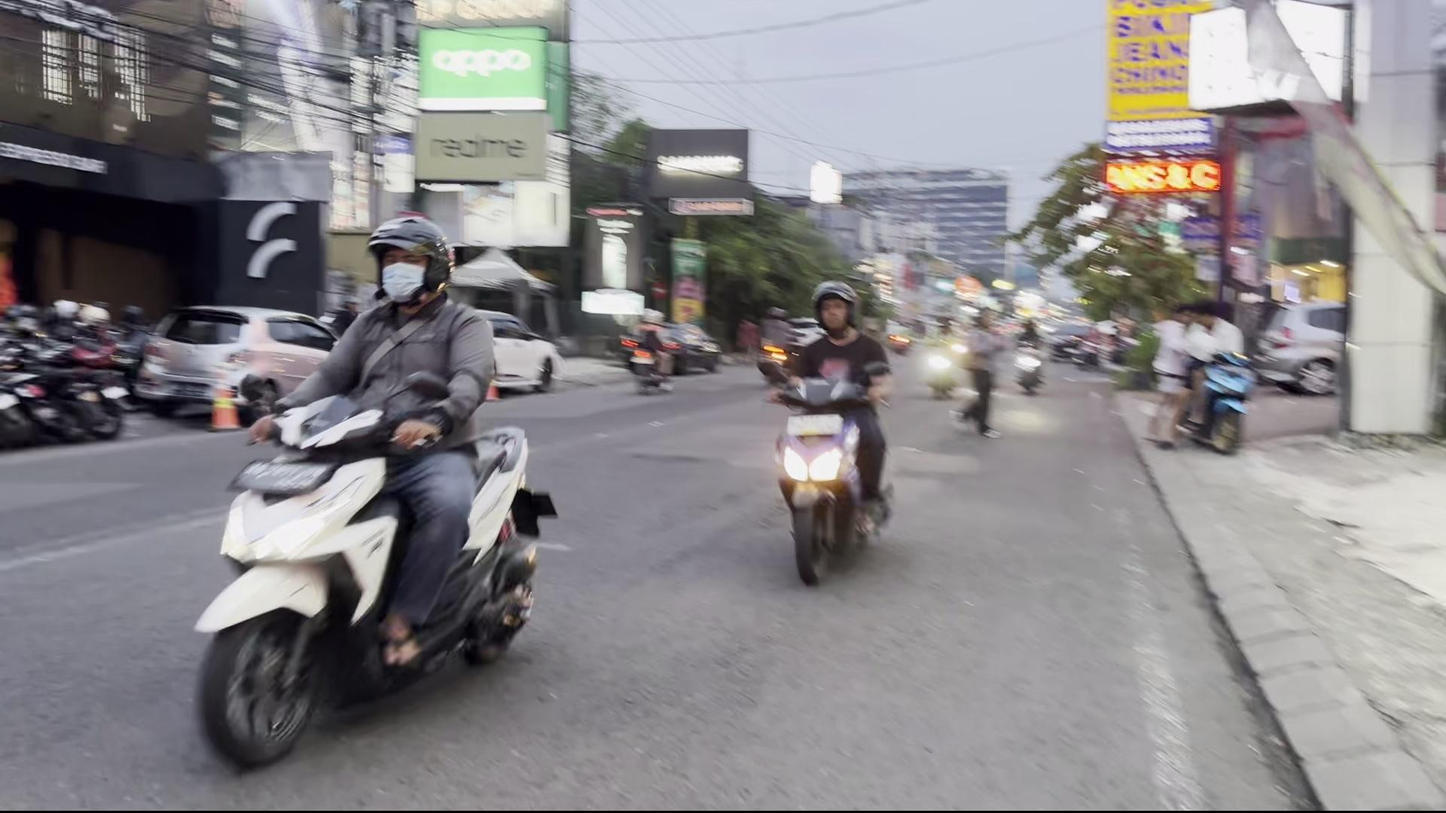helm: (360, 213, 464, 314)
riding: (182, 209, 567, 784)
